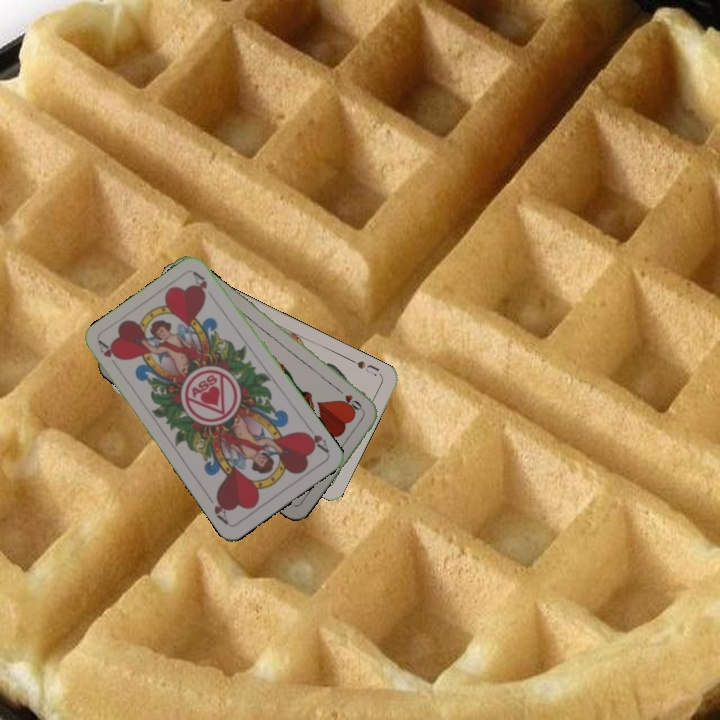HA: (300, 421, 332, 456), (94, 337, 123, 373)
HO: (333, 384, 367, 415)
SU: (346, 355, 382, 379)
